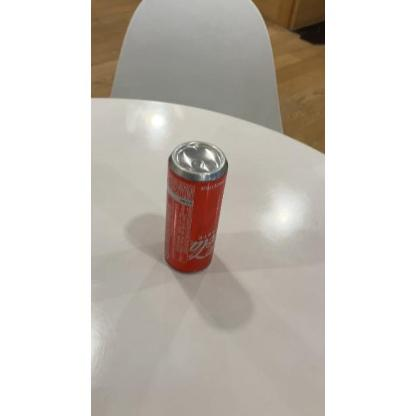Can: (162, 141, 228, 275)
